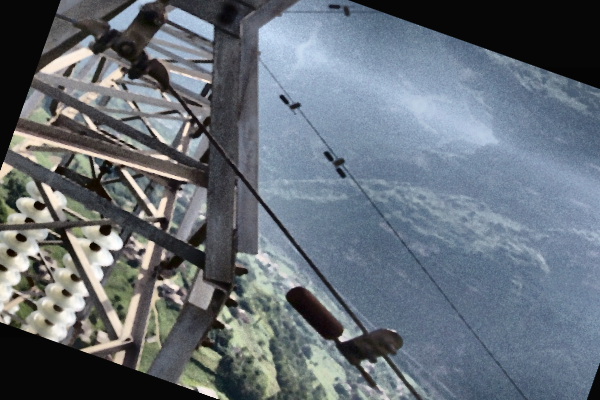damper: (322, 148, 349, 180)
damper_defect: (281, 280, 408, 390), (277, 90, 301, 117), (327, 1, 360, 18)
